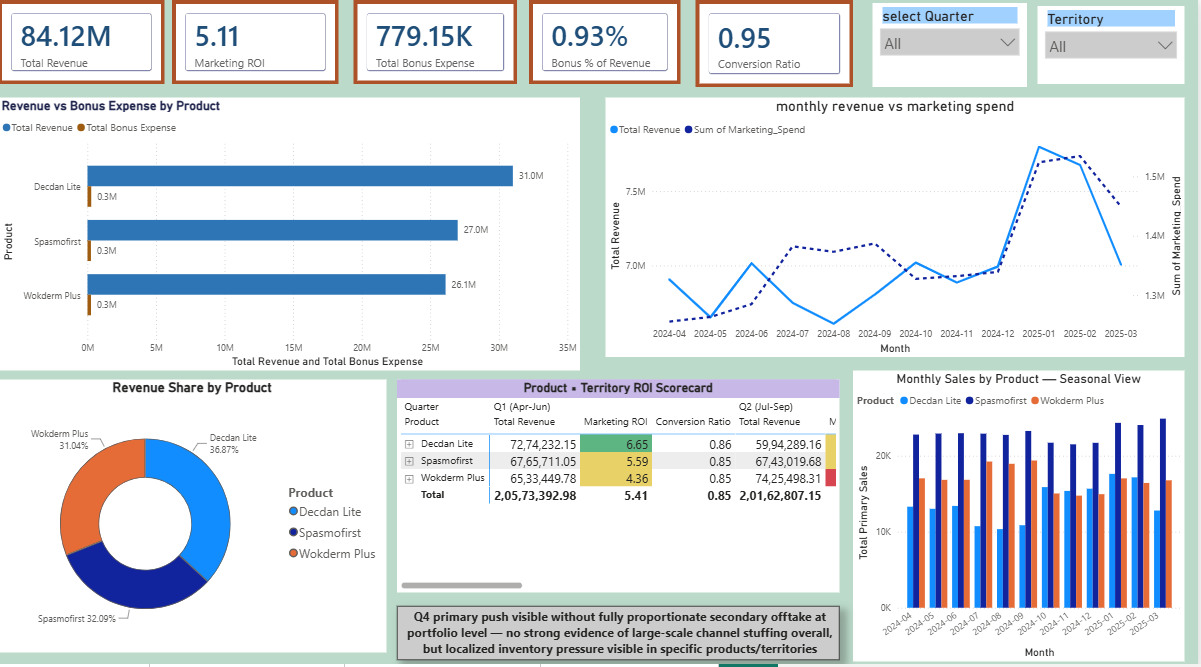

This screenshot's page, from the dashboard's own definition file:
{"tool":"powerbi","page":{"name":"Product & ROI","canvas":[1600,900],"ordinal":3},"visuals":[{"type":"cardVisual","fields":{"Data":["pharma_sales.Total Revenue"]},"box":[0,0,222,112],"z":0},{"type":"cardVisual","fields":{"Data":["pharma_sales.Marketing ROI"]},"box":[232,0,222,112],"z":1000},{"type":"cardVisual","fields":{"Data":["pharma_sales.Total Bonus Expense"]},"box":[474,0,218,112],"z":2000},{"type":"cardVisual","fields":{"Data":["pharma_sales.Bonus % of Revenue"]},"box":[708,0,202,112],"z":3000},{"type":"cardVisual","fields":{"Data":["pharma_sales.Conversion Ratio"]},"box":[930,0,210,116],"z":4000},{"type":"slicer","fields":{"Values":["pharma_sales.Quarter"]},"box":[1166,4,206,112],"z":5000},{"type":"slicer","fields":{"Values":["pharma_sales.Territory"]},"box":[1386,8,196,104],"z":6000},{"type":"clusteredBarChart","title":"Revenue vs Bonus Expense by Product","fields":{"Category":["pharma_sales.Product"],"Y":["pharma_sales.Total Revenue","pharma_sales.Total Bonus Expense"]},"box":[0,130,776,364],"z":7000},{"type":"lineChart","title":"monthly revenue vs marketing spend","fields":{"Category":["pharma_sales.Month"],"Y":["pharma_sales.Total Revenue"],"Y2":["Sum(pharma_sales.Marketing_Spend)"]},"box":[810,130,772,346],"z":8000},{"type":"donutChart","title":"Revenue Share by Product","fields":{"Category":["pharma_sales.Product"],"Y":["pharma_sales.Total Revenue"]},"box":[0,506,518,364],"z":9000},{"type":"pivotTable","title":"Product × Territory ROI Scorecard","fields":{"Rows":["pharma_sales.Product","pharma_sales.Territory"],"Columns":["pharma_sales.Quarter"],"Values":["pharma_sales.Total Revenue","pharma_sales.Marketing ROI","pharma_sales.Conversion Ratio"]},"box":[532,506,590,284],"z":10000},{"type":"clusteredColumnChart","title":"Monthly Sales by Product — Seasonal View","fields":{"Category":["pharma_sales.Month"],"Y":["pharma_sales.Total Primary Sales"],"Series":["pharma_sales.Product"]},"box":[1140,494,442,388],"z":11000},{"type":"textbox","box":[532,808,590,72],"z":12000}]}

Visuals, with their boxes in screenshot pixels (x1, y1, x2, y2), scaled from the page's 1600x900 canvas onto the 1201x667 screenshot:
cardVisual - pharma_sales.Total Revenue: <bbox>0, 0, 167, 83</bbox>
cardVisual - pharma_sales.Marketing ROI: <bbox>174, 0, 341, 83</bbox>
cardVisual - pharma_sales.Total Bonus Expense: <bbox>356, 0, 519, 83</bbox>
cardVisual - pharma_sales.Bonus % of Revenue: <bbox>531, 0, 683, 83</bbox>
cardVisual - pharma_sales.Conversion Ratio: <bbox>698, 0, 856, 86</bbox>
slicer - pharma_sales.Quarter: <bbox>875, 3, 1030, 86</bbox>
slicer - pharma_sales.Territory: <bbox>1040, 6, 1187, 83</bbox>
"Revenue vs Bonus Expense by Product" clusteredBarChart: <bbox>0, 96, 582, 366</bbox>
"monthly revenue vs marketing spend" lineChart: <bbox>608, 96, 1187, 353</bbox>
"Revenue Share by Product" donutChart: <bbox>0, 375, 389, 645</bbox>
"Product × Territory ROI Scorecard" pivotTable: <bbox>399, 375, 842, 585</bbox>
"Monthly Sales by Product — Seasonal View" clusteredColumnChart: <bbox>856, 366, 1187, 654</bbox>
textbox: <bbox>399, 599, 842, 652</bbox>
